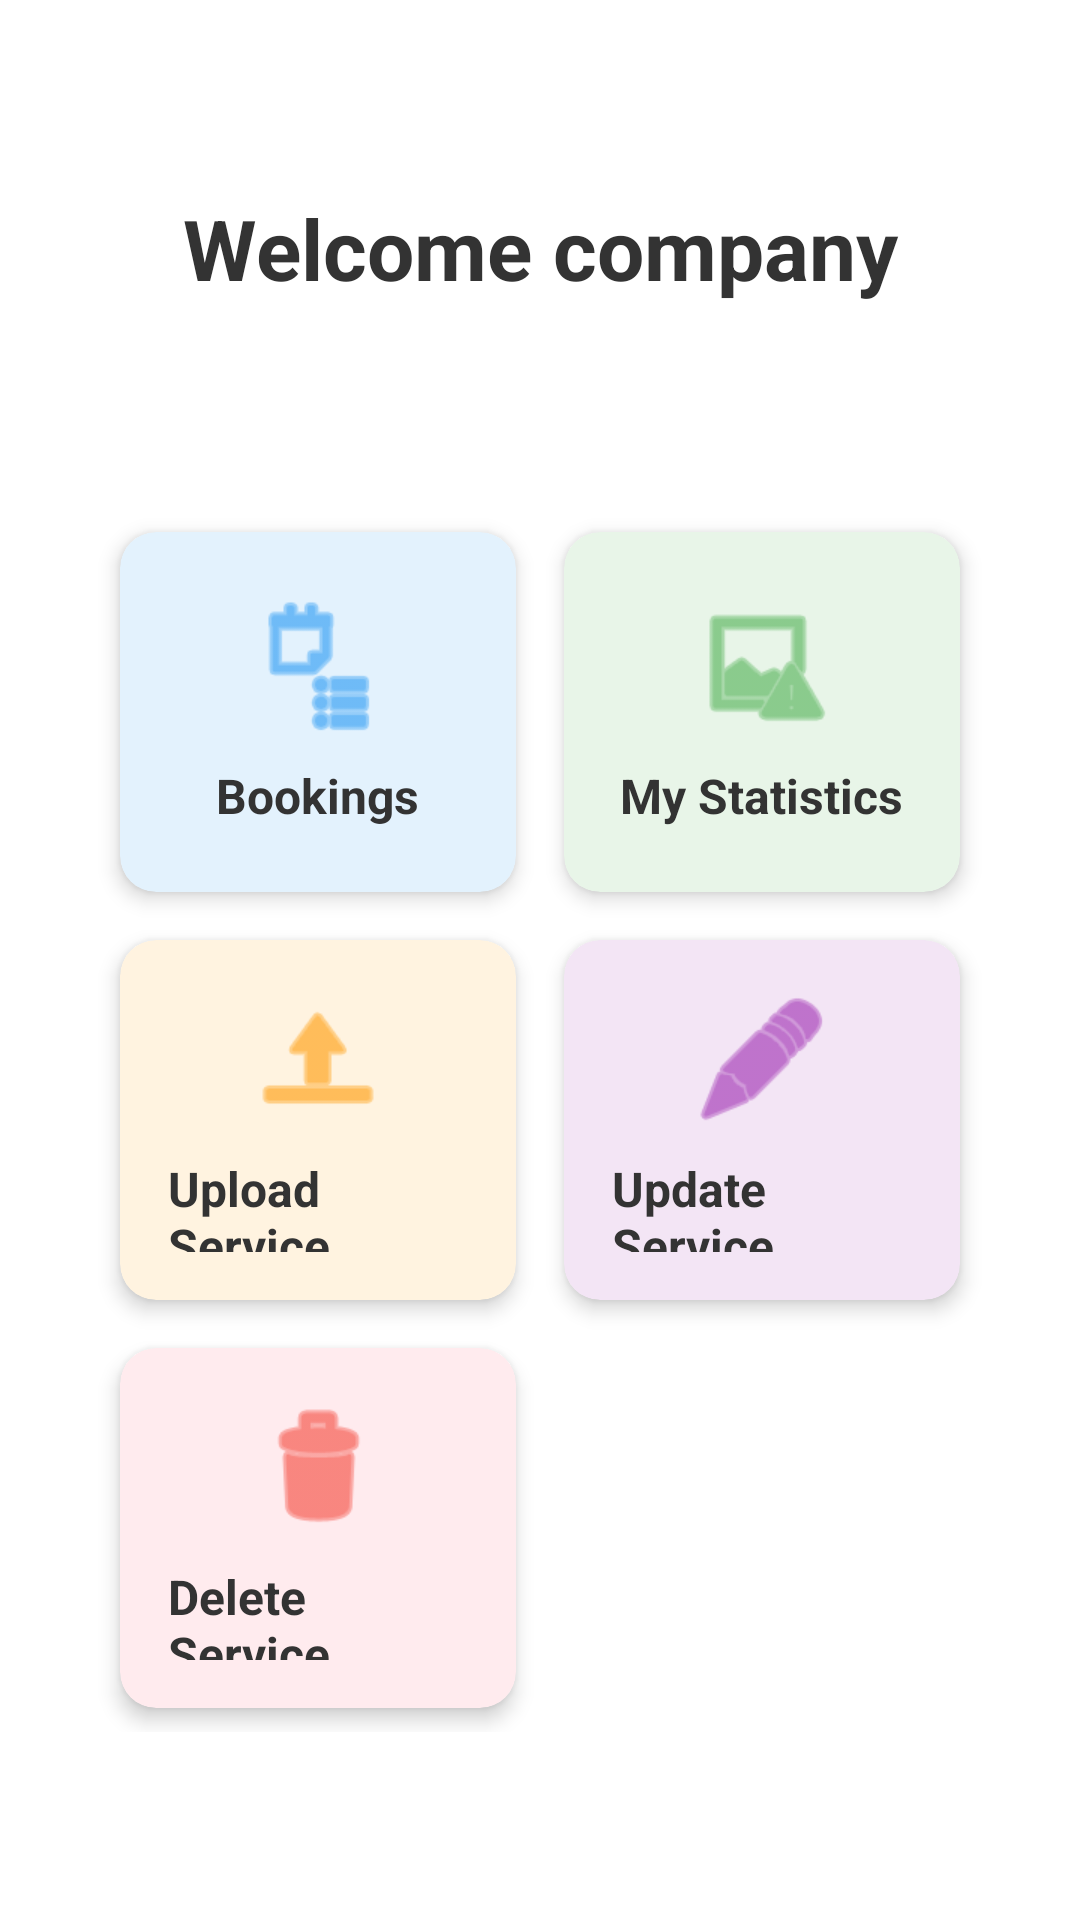

Where to tap for icons on this 1080 × 1920 app screen, as point (x, y):
agenda: point (318, 666)
edit: point (761, 1059)
report: point (767, 668)
